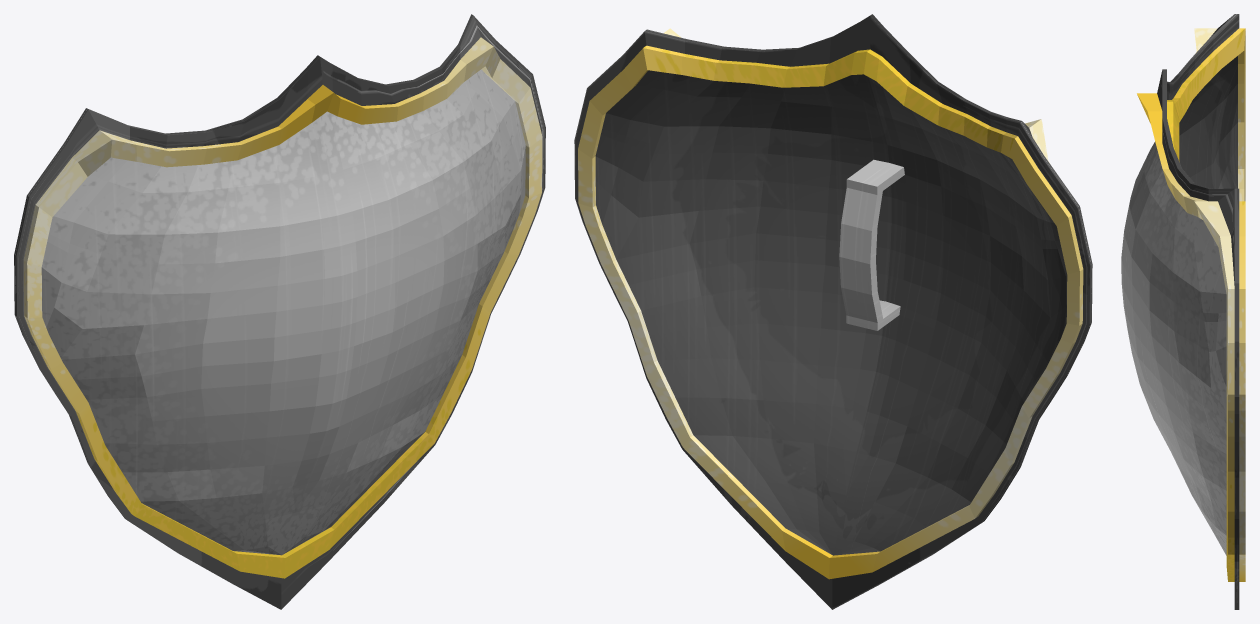
File: Shield.fbx
3 views of the same model, side by side, from view 1: azimuth 30°, elevation 25°; view 2: azimuth 150°, elevation 25°; view 3: azimuth 270°, elevation 25° (orthographic). The views are drawn at different scales.
Visible parts, largest first — view 1: Plane.001; view 2: Plane.001; view 3: Plane.001.
Boxes of the visible parts, x1,y1,x2,y2 form: Plane.001: [14, 14, 545, 609]; Plane.001: [574, 14, 1092, 609]; Plane.001: [1121, 14, 1245, 609].
Size of the model in its own units: 3813 by 4002 by 834.
1 material, 1 textured.
